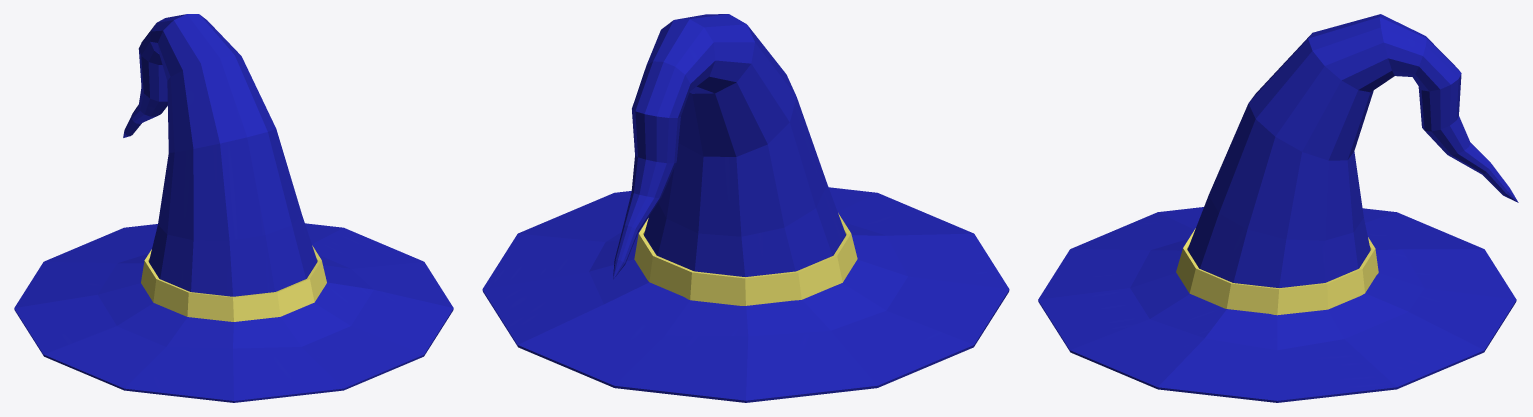
The model's file is hat_wizzard.glb.
3 views of the same model, side by side, from view 1: azimuth 30°, elevation 25°; view 2: azimuth 150°, elevation 25°; view 3: azimuth 270°, elevation 25° (orthographic). The views are drawn at different scales.
Visible parts, largest first — view 1: wizard hat; view 2: wizard hat; view 3: wizard hat.
Part boxes in pixels (bbox=[...]): wizard hat: bbox=[14, 14, 453, 402]; wizard hat: bbox=[482, 14, 1009, 402]; wizard hat: bbox=[1038, 14, 1518, 402].
Bounding box in the file's own units: 5.11 × 3.36 × 5.13.
Materials: 2 (2 with a texture image).
